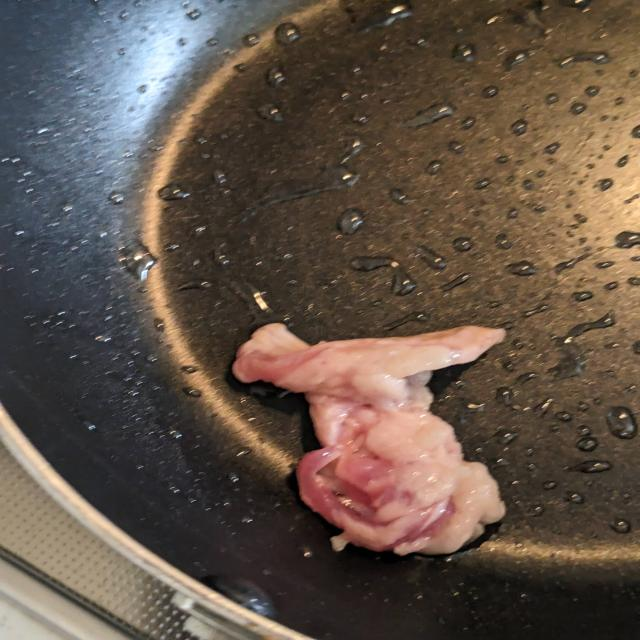NG raw pork,: (202, 303, 531, 565)
